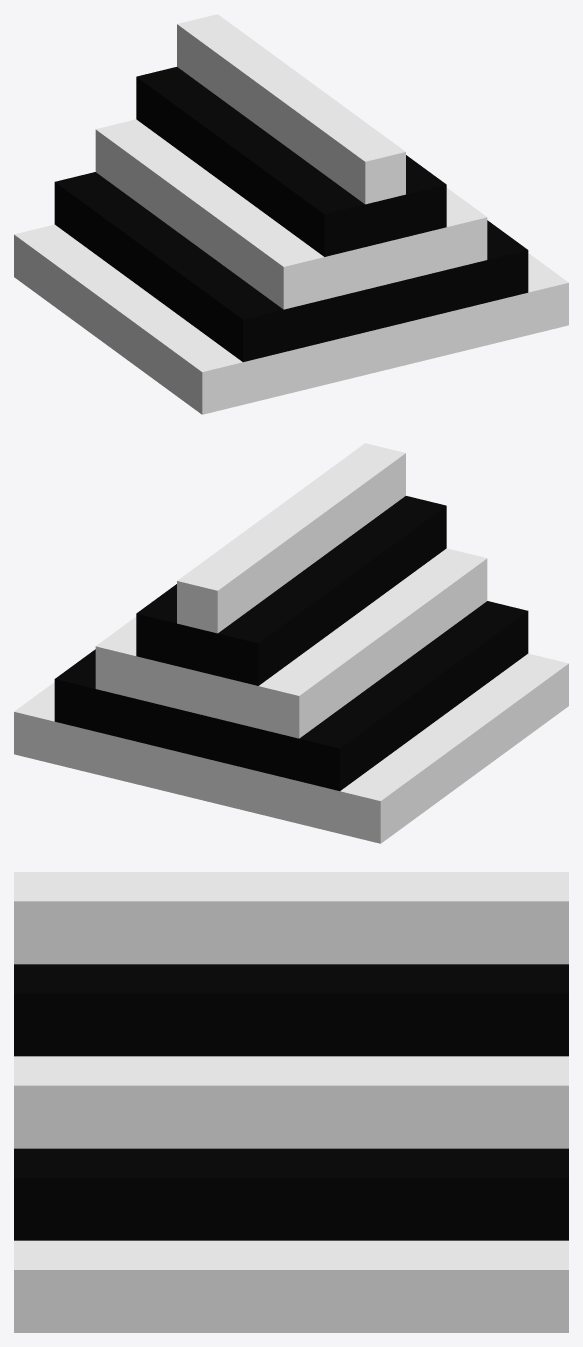
The picture shows the model from 3 angles, top to bottom: view 1: azimuth 30°, elevation 25°; view 2: azimuth 150°, elevation 25°; view 3: azimuth 270°, elevation 25°; orthographic projection. The views are drawn at different scales.
Parts seen in each view (by area): view 1: Matrix_10; view 2: Matrix_10; view 3: Matrix_10.
Part boxes in pixels (left/top/right/bottom): Matrix_10: left=14, top=14, right=568, bottom=414; Matrix_10: left=14, top=443, right=568, bottom=843; Matrix_10: left=14, top=872, right=568, bottom=1332.
Bounding box in the file's own units: 9 × 5 × 8.
1 material, 1 textured.
